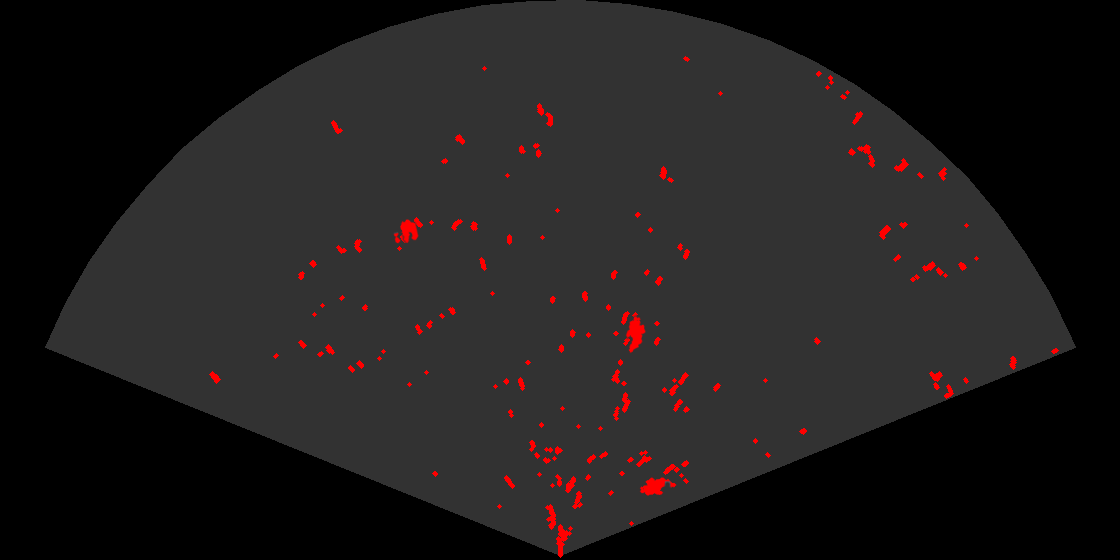AUV: (624, 314, 647, 355), (638, 476, 678, 497)
ball: (392, 218, 420, 245)
